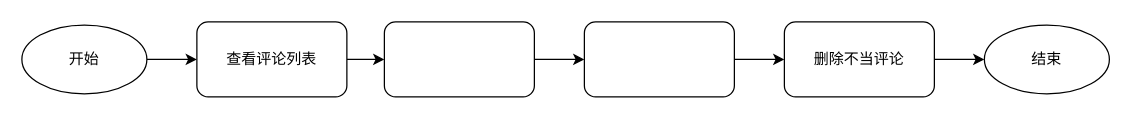
This 1131x119 diagram has some shape labels left out. The shapes that lost their labels are listed below. From the top down, each one's centre as x and y in pixels, then its label:
At [458,59]: "预览评论内容".
At [658,59]: "查看用户信息".
